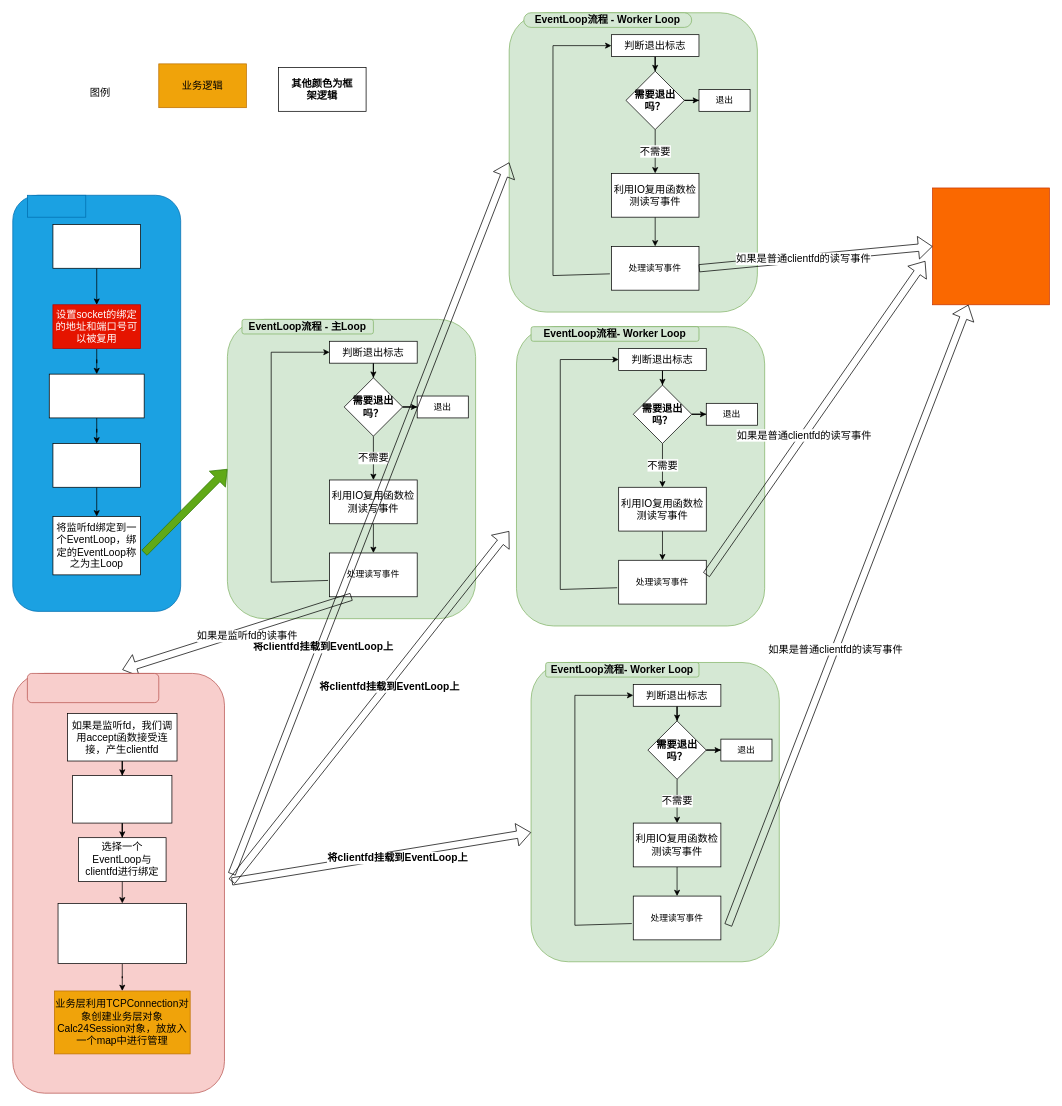
Image size: 1062x1106. Some labels were removed from this diagram. Each missing label, with the centre of its shape:
"创建监听socket" belongs at [96,246].
"初始化流程" belongs at [56,206].
"利用这个clientfd创建TCPConnection对象" belongs at [122,799].
"回调业务层的逻辑，告诉业务层有新连接来了，同时携带新连接的信息（clientfd和TCPConnection）" belongs at [122,933].
"对监听fd读事件的处理逻辑" belongs at [93,688].
"开启监听" belongs at [96,465].
"检测到普通clientfd读写事件，与客户端通信进行消息收发" belongs at [990,246].
"绑定IP地址和端口号" belongs at [96,395].
